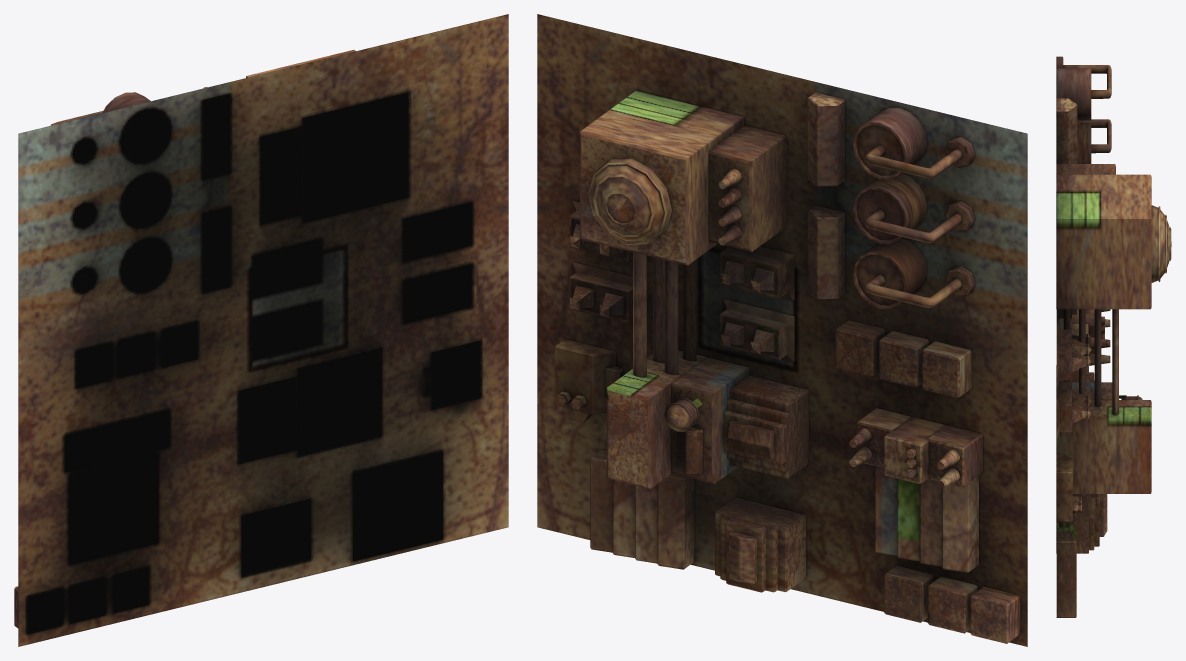
The model's file is city.fbx.
The picture shows the model from 3 angles, left to right: view 1: azimuth 30°, elevation 25°; view 2: azimuth 150°, elevation 25°; view 3: azimuth 270°, elevation 25°; orthographic projection. The views are drawn at different scales.
Visible parts, largest first — view 1: bgMesh; view 2: bgMesh; view 3: bgMesh.
Part boxes in pixels (x1,y1,x2,y2): bgMesh: [14, 14, 508, 646]; bgMesh: [537, 14, 1027, 646]; bgMesh: [1056, 56, 1171, 617].
Size of the model in its own units: 18.15 by 18.15 by 4.4.
Materials: 1 (1 with a texture image).
